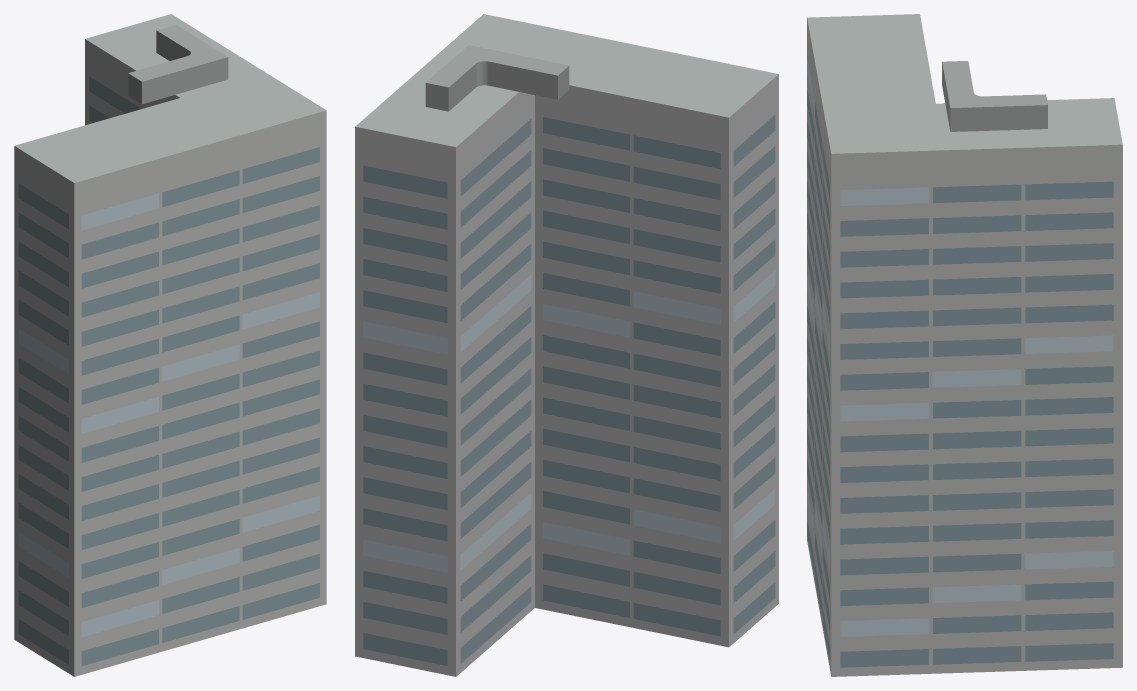
Rendered from fallback-godeok-raemian-hillstate-308.glb.
The picture shows the model from 3 angles, left to right: view 1: azimuth 30°, elevation 25°; view 2: azimuth 150°, elevation 25°; view 3: azimuth 270°, elevation 25°; orthographic projection. The views are drawn at different scales.
Parts seen in each view (by area): view 1: fallback-godeok-raemian-hillstate-308; view 2: fallback-godeok-raemian-hillstate-308; view 3: fallback-godeok-raemian-hillstate-308.
Part boxes in pixels (<box>): fallback-godeok-raemian-hillstate-308: <box>14,14,326,676</box>; fallback-godeok-raemian-hillstate-308: <box>355,14,778,676</box>; fallback-godeok-raemian-hillstate-308: <box>807,14,1122,676</box>.
Size of the model in its own units: 30.17 by 55 by 28.78.
